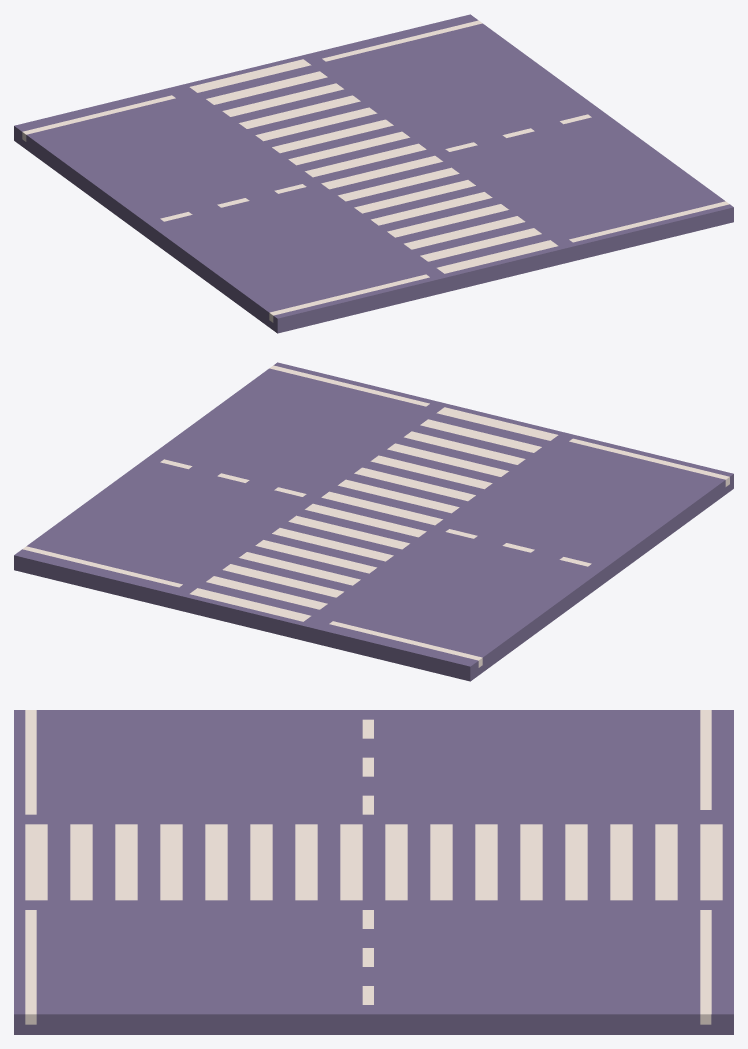
The model's file is road_b_b.obj.
3 renders of one model, top to bottom at view 1: azimuth 30°, elevation 25°; view 2: azimuth 150°, elevation 25°; view 3: azimuth 270°, elevation 25°, orthographic. The views are drawn at different scales.
Size of the model in its own units: 6.4 by 0.2 by 6.4.
1 material, 1 textured.
